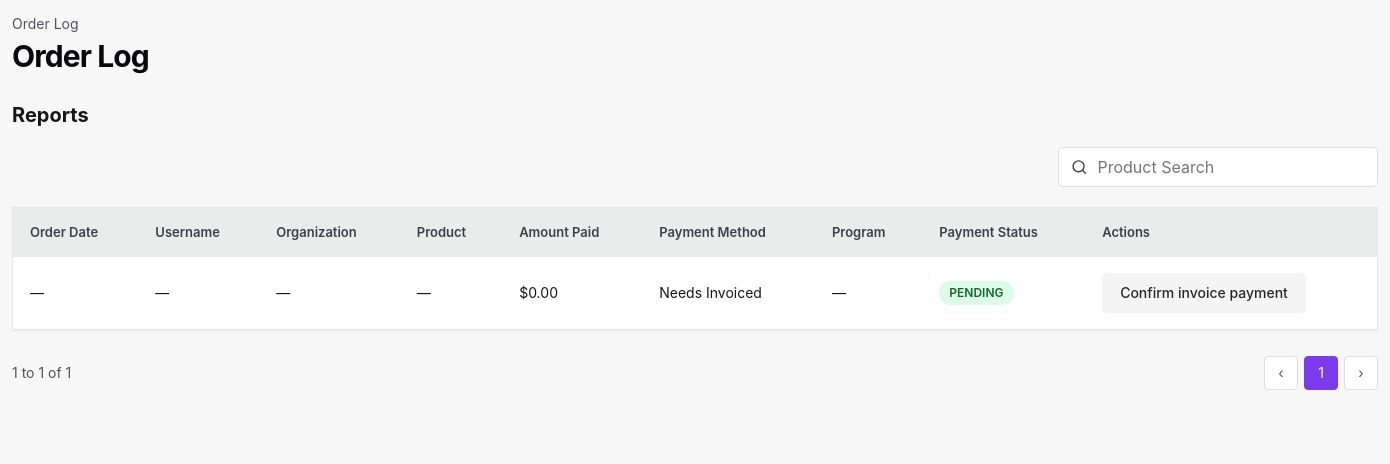
Scenario: order log › confirms a pending invoice payment and refreshes the order log
Step 1. Click the button "Confirm invoice payment" → click(1204, 292), box [1102,272,1306,312]
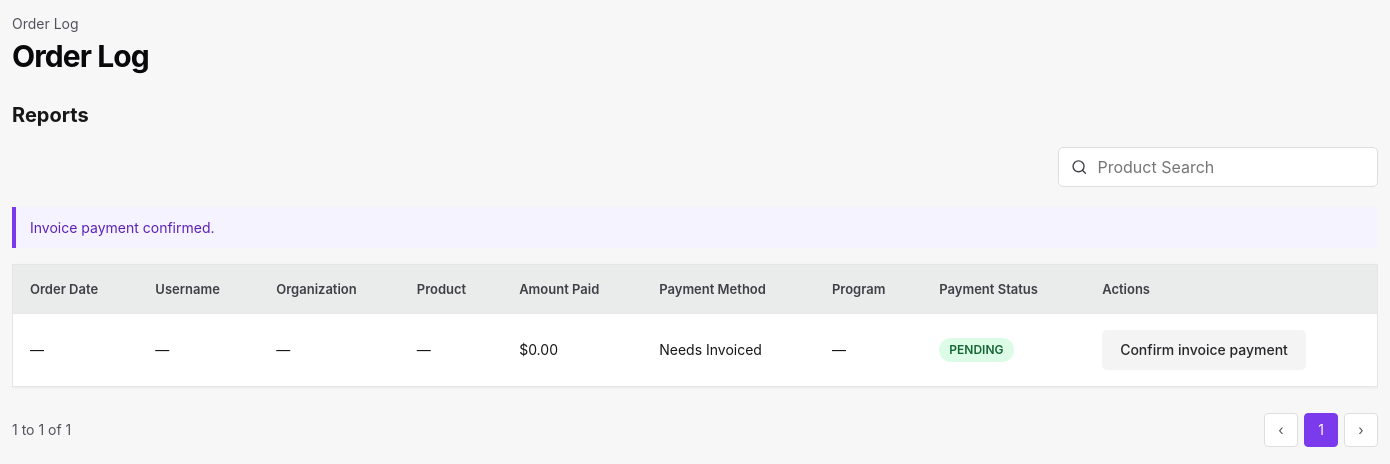
Now the text "Invoice payment confirmed." is shown, box [12,206,1378,248]
